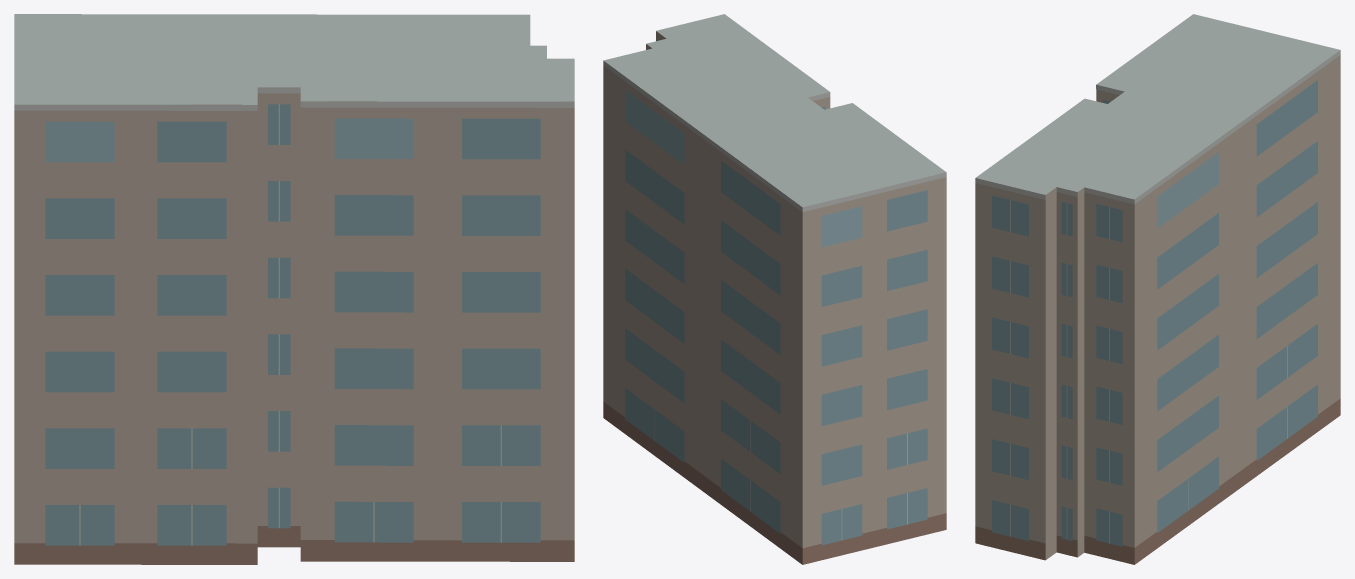
The model's file is survey-upis-32605704.glb.
The picture shows the model from 3 angles, left to right: view 1: azimuth 30°, elevation 25°; view 2: azimuth 150°, elevation 25°; view 3: azimuth 270°, elevation 25°; orthographic projection. The views are drawn at different scales.
Parts seen in each view (by area): view 1: survey-upis-32605704.tmp; view 2: survey-upis-32605704.tmp; view 3: survey-upis-32605704.tmp.
Boxes of the visible parts, left/top/right/bottom form: survey-upis-32605704.tmp: left=14, top=14, right=574, bottom=564; survey-upis-32605704.tmp: left=603, top=14, right=946, bottom=564; survey-upis-32605704.tmp: left=975, top=14, right=1340, bottom=564.
Bounding box in the file's own units: 19.94 × 18.3 × 16.59.
